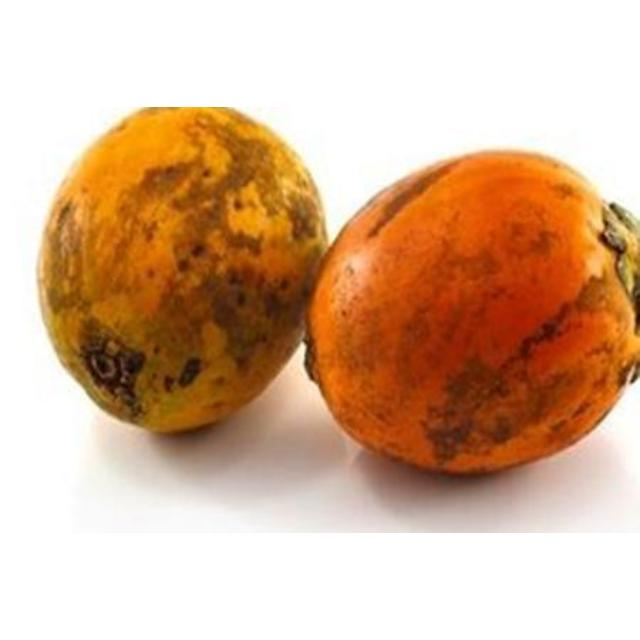good: (304, 153, 639, 477), (37, 107, 331, 438)
